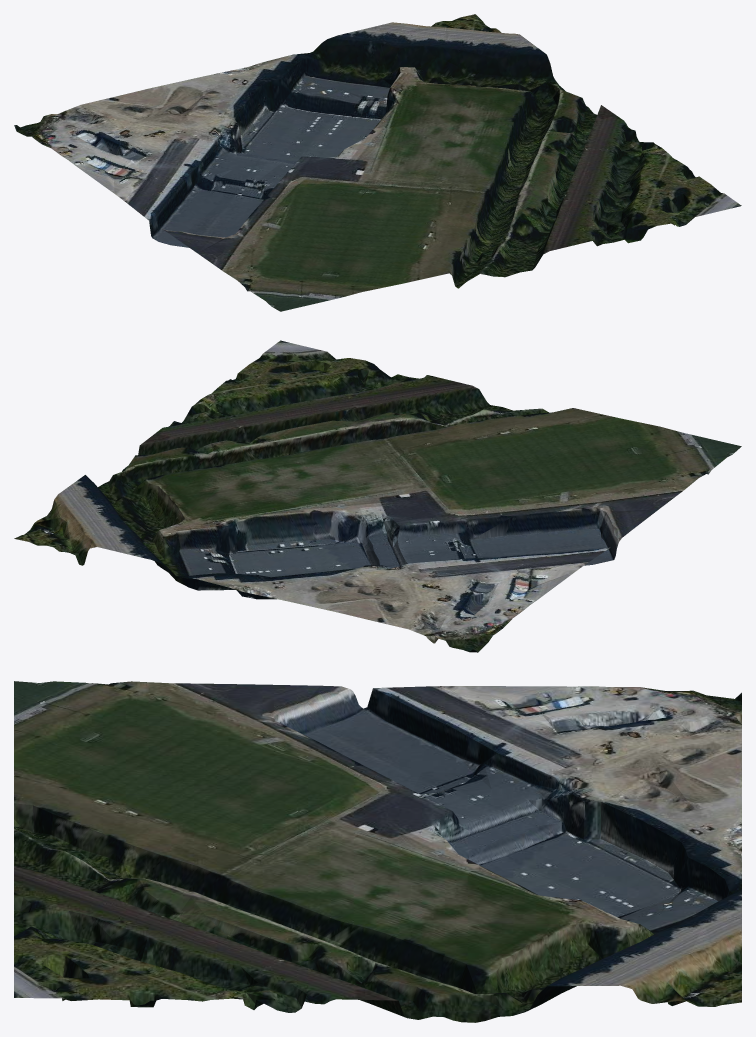
The model's file is map_13_2046_3448.dae.
3 renders of one model, top to bottom at view 1: azimuth 30°, elevation 25°; view 2: azimuth 150°, elevation 25°; view 3: azimuth 270°, elevation 25°, orthographic. The views are drawn at different scales.
Parts seen in each view (by area): view 1: Ter0; view 2: Ter0; view 3: Ter0.
Part boxes in pixels (x1,y1,x2,y2): Ter0: (14,14,741,311); Ter0: (14,340,741,652); Ter0: (14,681,741,1022).
Bounding box in the file's own units: 256 × 256 × 20.39.
Materials: 3 (3 with a texture image).
